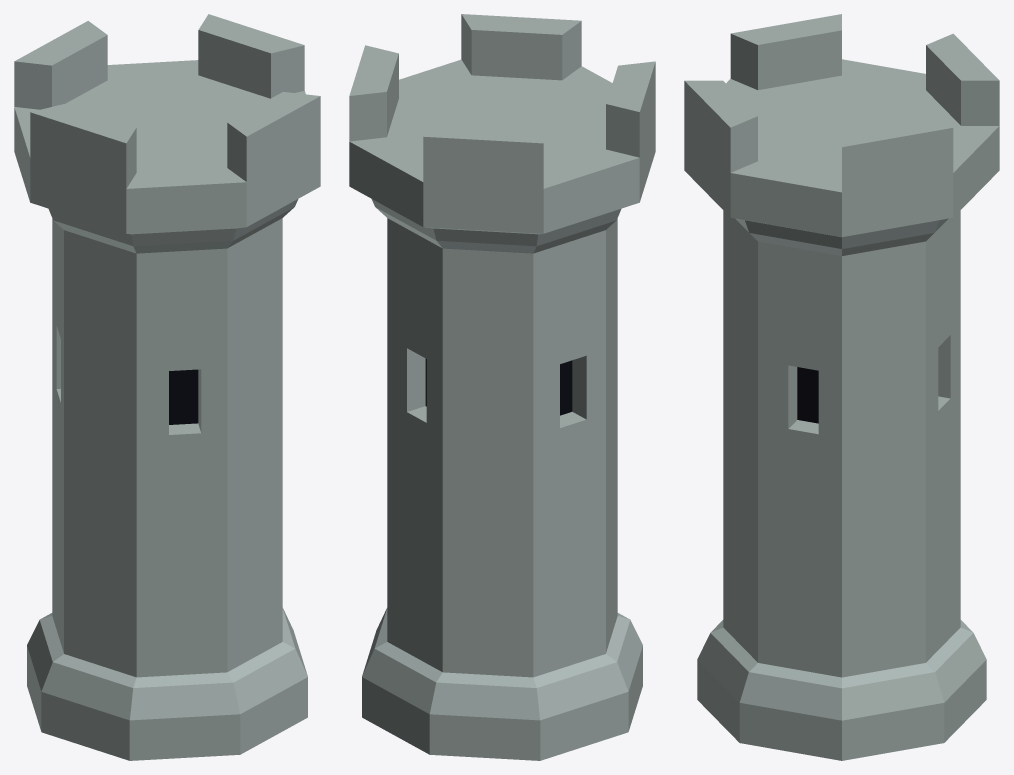
Rendered from Tower.fbx.
3 renders of one model, left to right at view 1: azimuth 30°, elevation 25°; view 2: azimuth 150°, elevation 25°; view 3: azimuth 270°, elevation 25°, orthographic.
Parts seen in each view (by area): view 1: Cylinder; view 2: Cylinder; view 3: Cylinder.
Part boxes in pixels (x1,y1,x2,y2): Cylinder: (14, 14, 320, 760); Cylinder: (349, 14, 655, 760); Cylinder: (684, 14, 999, 760).
Size of the model in its own units: 218 by 472 by 218.
